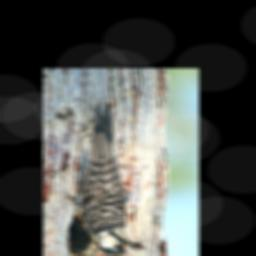Woodpecker: (63, 97, 147, 256)
